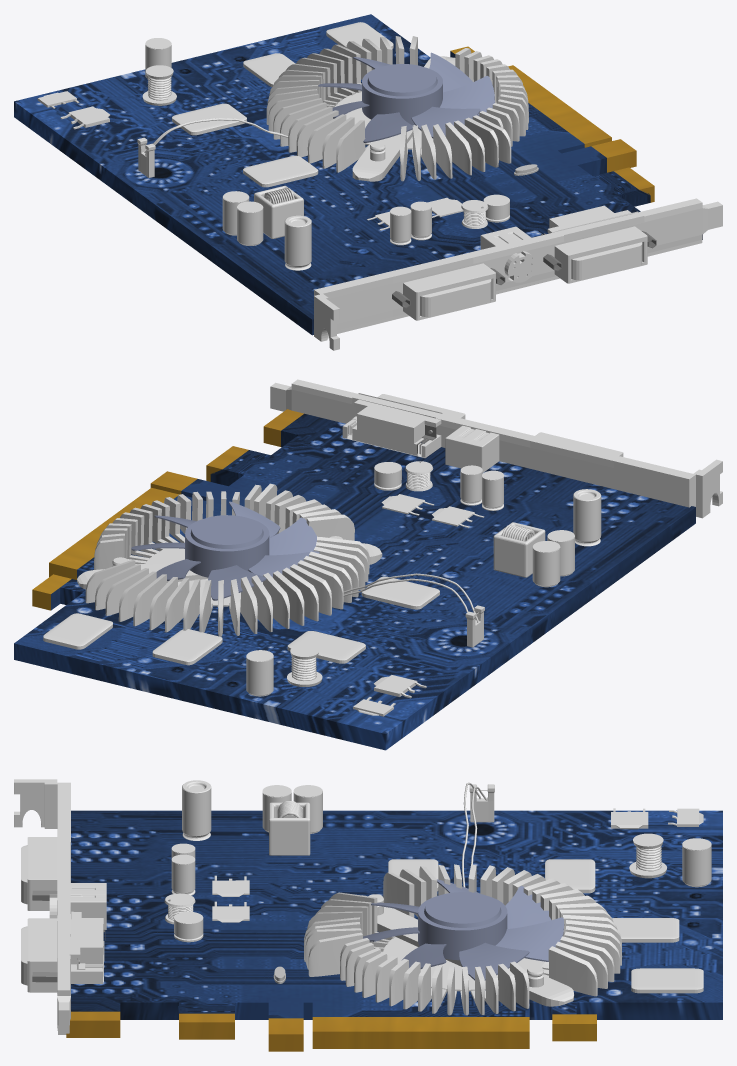
File: ekrankartıiçi.fbx
The picture shows the model from 3 angles, top to bottom: view 1: azimuth 30°, elevation 25°; view 2: azimuth 150°, elevation 25°; view 3: azimuth 270°, elevation 25°; orthographic projection. The views are drawn at different scales.
Parts seen in each view (by area): view 1: Cube, fan.004, Cube.001, fan.001, Cube.006, Cube.002, Cube.003, Cube.004, Cube.005, Cylinder.002, Cube.007, kondansatör-20 (+17 smaller); view 2: Cube, fan.004, Cube.001, fan.001, Cube.040, Cube.003, Cylinder.002, Cube.011, Cube.009, Cube.010, Cube.007, kondansatör-20 (+11 smaller); view 3: Cube, fan.004, fan.001, Cube.001, Cube.003, Cylinder.002, Cube.040, Cube.006, Cube.002, fan.005, Cube.010, kondansatör-20 (+13 smaller).
Boxes of the visible parts, bbox=[...] form: Cube: bbox=[14, 14, 702, 335]; fan.004: bbox=[266, 36, 528, 181]; Cube.001: bbox=[314, 198, 722, 350]; fan.001: bbox=[318, 52, 494, 142]; Cube.006: bbox=[554, 226, 647, 283]; Cube.002: bbox=[403, 263, 495, 320]; Cube.003: bbox=[37, 91, 463, 230]; Cube.004: bbox=[420, 279, 491, 317]; Cube.005: bbox=[571, 242, 642, 280]; Cylinder.002: bbox=[254, 185, 303, 238]; Cube.007: bbox=[243, 155, 318, 187]; kondansatör-20: bbox=[284, 215, 311, 270]; Cube: bbox=[14, 409, 695, 750]; fan.004: bbox=[85, 483, 369, 636]; Cube.001: bbox=[270, 379, 722, 518]; fan.001: bbox=[131, 501, 319, 600]; Cube.040: bbox=[342, 399, 441, 458]; Cube.003: bbox=[353, 494, 484, 716]; Cylinder.002: bbox=[493, 522, 545, 577]; Cube.011: bbox=[445, 425, 499, 472]; Cube.009: bbox=[152, 629, 222, 665]; Cube.010: bbox=[43, 613, 112, 649]; Cube.007: bbox=[361, 576, 439, 609]; kondansatör-20: bbox=[573, 489, 601, 546]; Cube: bbox=[66, 810, 722, 1051]; fan.004: bbox=[304, 864, 622, 1015]; fan.001: bbox=[363, 879, 564, 980]; Cube.001: bbox=[14, 779, 70, 1034]; Cube.003: bbox=[212, 808, 703, 922]; Cylinder.002: bbox=[269, 801, 310, 855]; Cube.040: bbox=[69, 911, 104, 983]; Cube.006: bbox=[27, 918, 57, 992]; Cube.002: bbox=[27, 837, 57, 910]; fan.005: bbox=[362, 895, 574, 1006]; Cube.010: bbox=[631, 968, 703, 993]; kondansatör-20: bbox=[182, 780, 211, 840].
Bounding box in the file's own units: 1577 × 240 × 2100.
